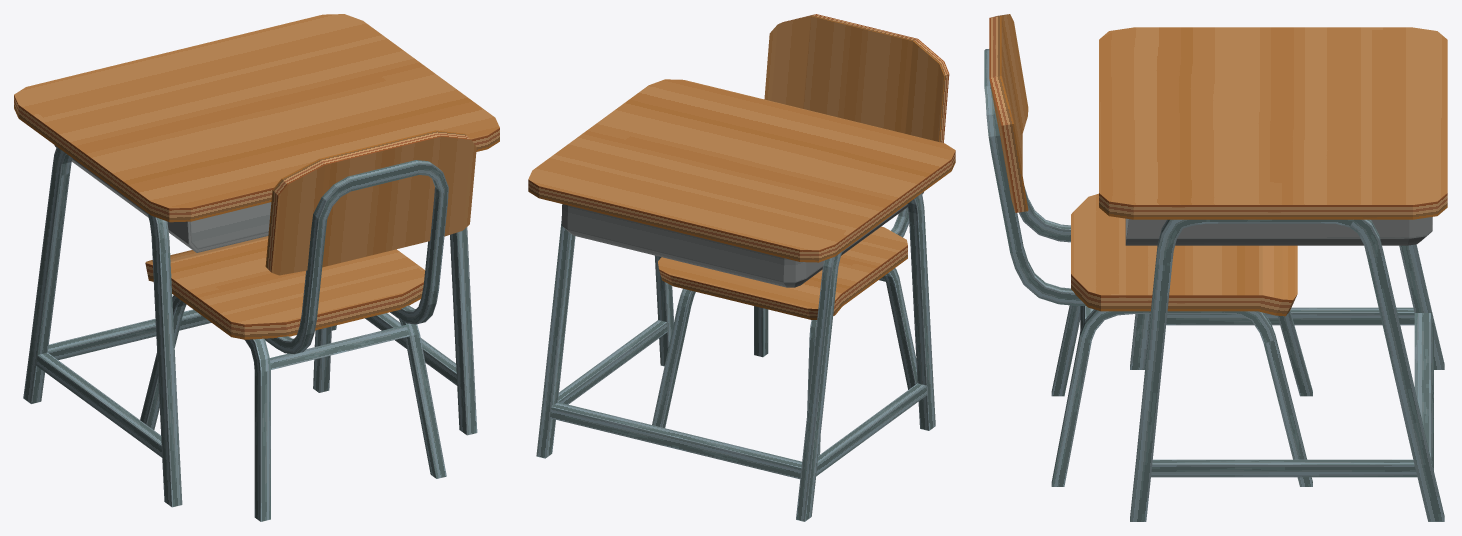
Rendered from Chair_n_Table.fbx.
3 views of the same model, side by side, from view 1: azimuth 30°, elevation 25°; view 2: azimuth 150°, elevation 25°; view 3: azimuth 270°, elevation 25° (orthographic). The views are drawn at different scales.
Parts seen in each view (by area): view 1: table, chair; view 2: table, chair; view 3: table, chair.
Boxes of the visible parts, x1,y1,x2,y2 form: table: [14, 14, 499, 507]; chair: [140, 130, 476, 521]; table: [528, 79, 955, 521]; chair: [652, 14, 949, 455]; table: [1099, 27, 1447, 521]; chair: [984, 14, 1312, 486].
Bounding box in the file's own units: 78.01 × 80.51 × 86.02.
1 material, 1 textured.
